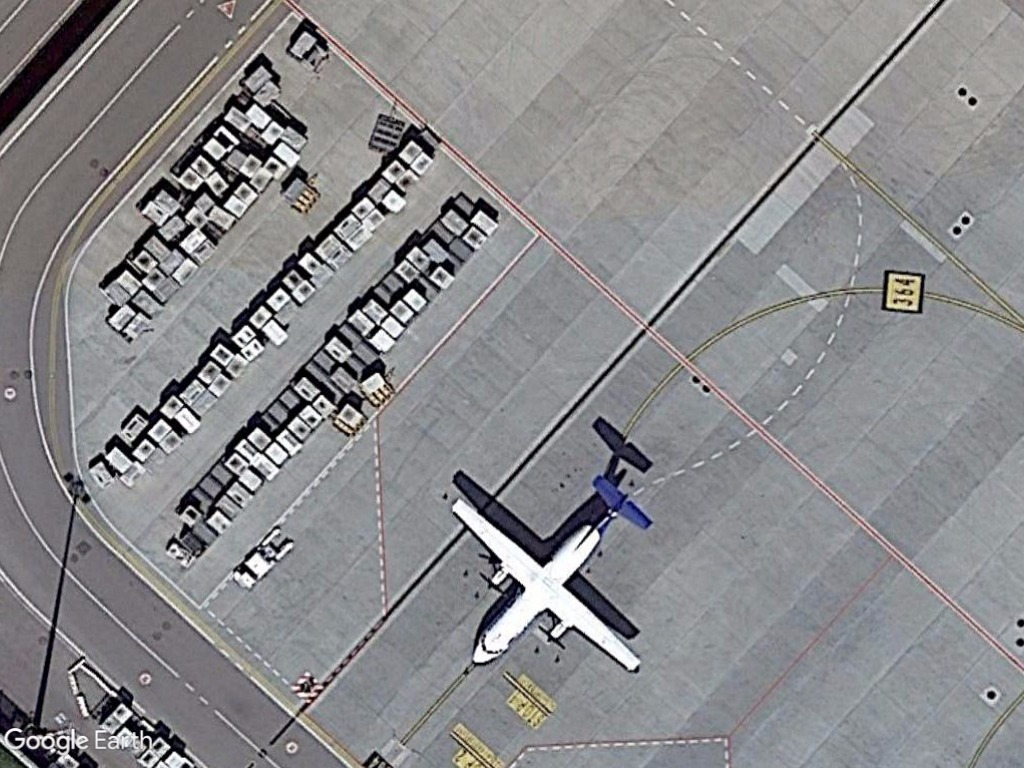propeller: (430, 467, 666, 681)
pushbacktruck: (227, 517, 298, 591)
